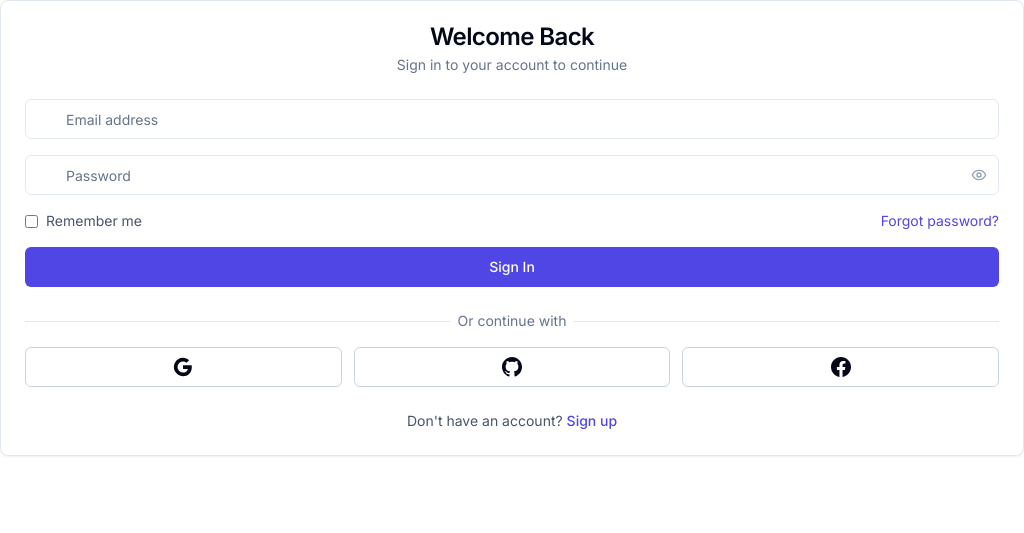
Test case: LoginPage › form submission › displays generic error when no specific message
Type "test@example.com" into the field with placeholder "Email address". click: (512, 119)
box: left=25, top=99, right=999, bottom=139
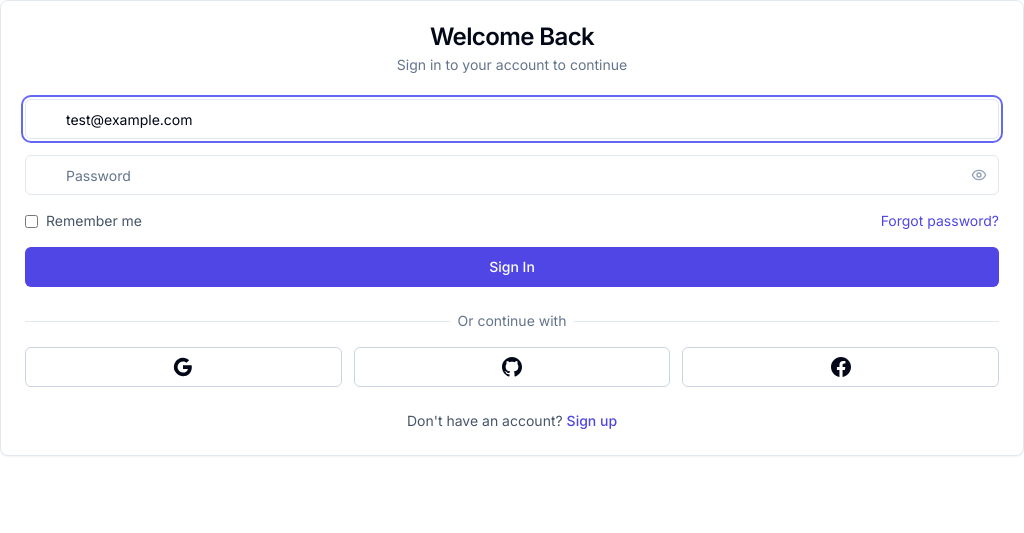
Type "password123" into the password field with placeholder "Password". click: (512, 175)
box: left=25, top=155, right=999, bottom=195
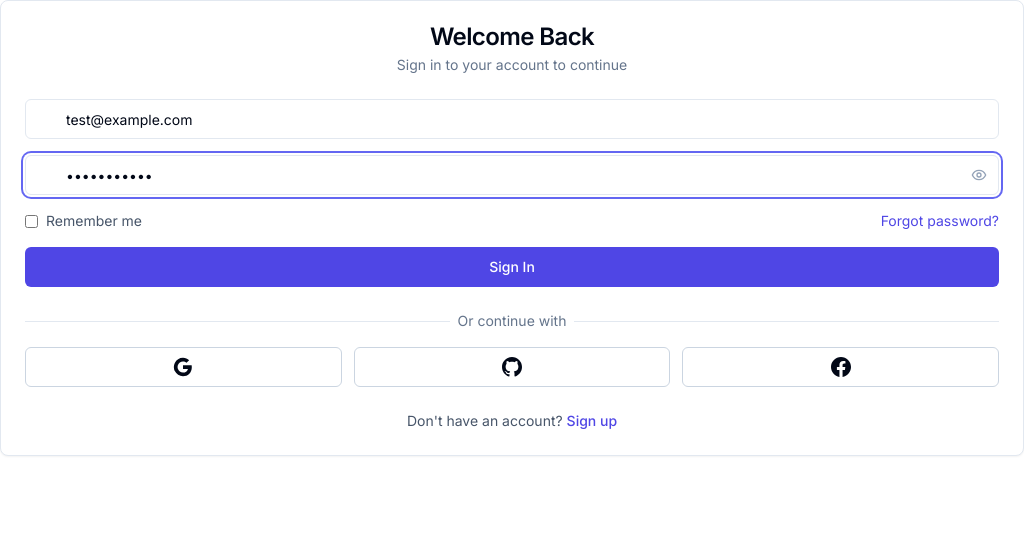
Click the button "Sign In". click: click(512, 267)
box: left=25, top=247, right=999, bottom=287
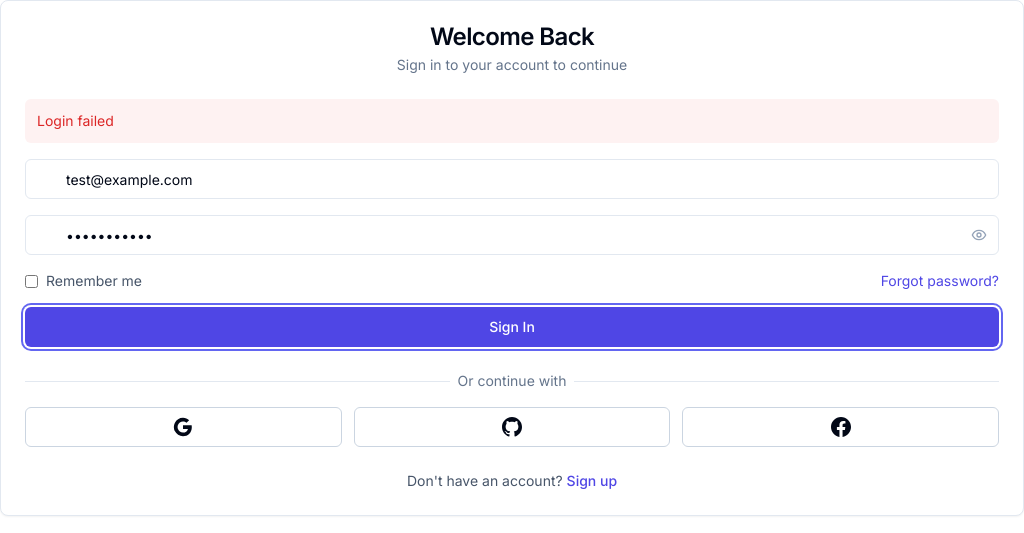
Check: the text "Login failed" is shown, box left=25, top=99, right=999, bottom=143
